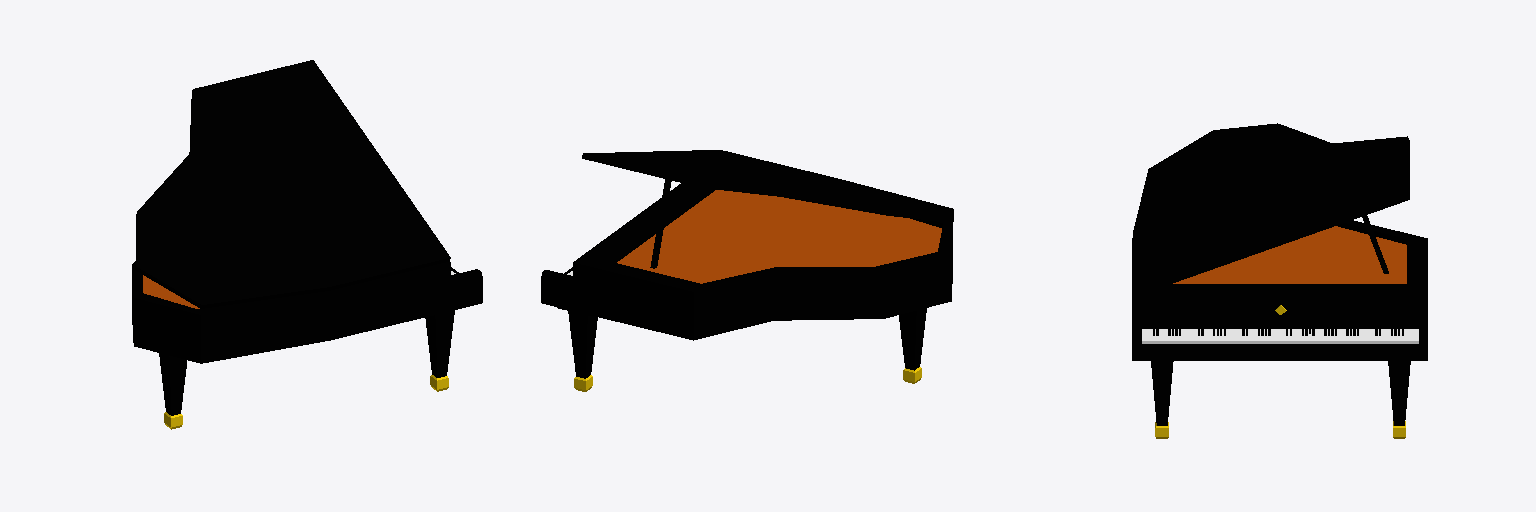
File: Piano_01_Edited.obj
The picture shows the model from 3 angles: view 1: azimuth 30°, elevation 25°; view 2: azimuth 150°, elevation 25°; view 3: azimuth 270°, elevation 25°; orthographic projection.
Visible parts, largest first — view 1: piano_Cube.029; view 2: piano_Cube.029; view 3: piano_Cube.029.
Boxes of the visible parts, <box> form: piano_Cube.029: <box>132,60,482,429</box>; piano_Cube.029: <box>541,150,953,391</box>; piano_Cube.029: <box>1132,123,1427,438</box>.
Bounding box in the file's own units: 12.68 × 9.5 × 10.6.